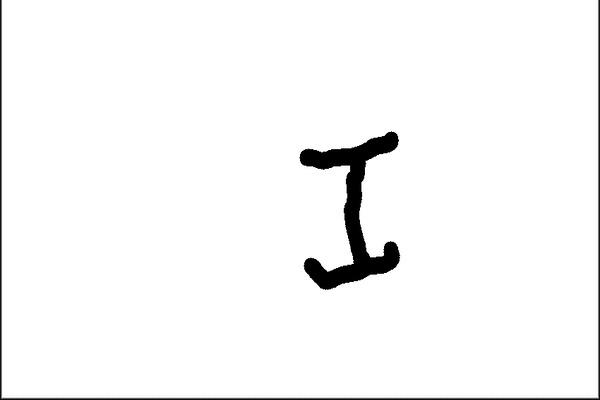i: (287, 131, 408, 295)
